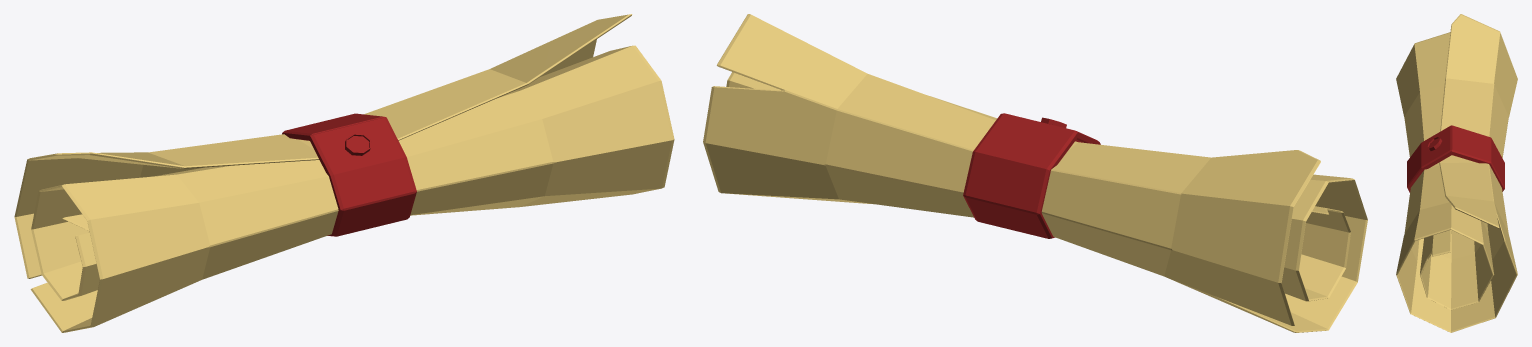
File: scroll_closed.glb
The picture shows the model from 3 angles, left to right: view 1: azimuth 30°, elevation 25°; view 2: azimuth 150°, elevation 25°; view 3: azimuth 270°, elevation 25°; orthographic projection. The views are drawn at different scales.
Visible parts, largest first — view 1: Cylinder; view 2: Cylinder; view 3: Cylinder.
Part boxes in pixels (box(x1,y1,x2,y2)): Cylinder: box(14, 14, 674, 332); Cylinder: box(703, 14, 1367, 332); Cylinder: box(1396, 14, 1517, 332).
Bounding box in the file's own units: 0.3481 × 0.1028 × 0.0907.
